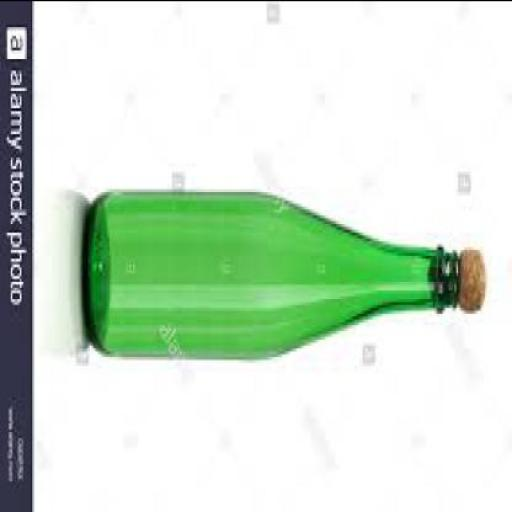glass: (82, 185, 462, 353)
